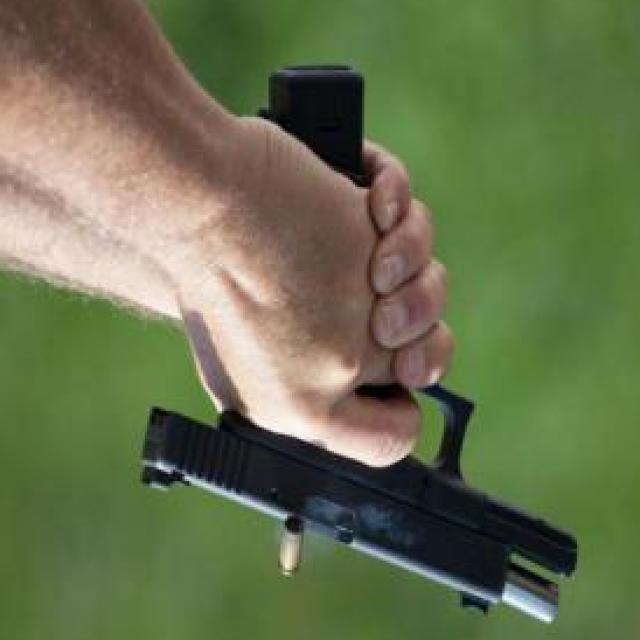pistol: (135, 76, 590, 635)
